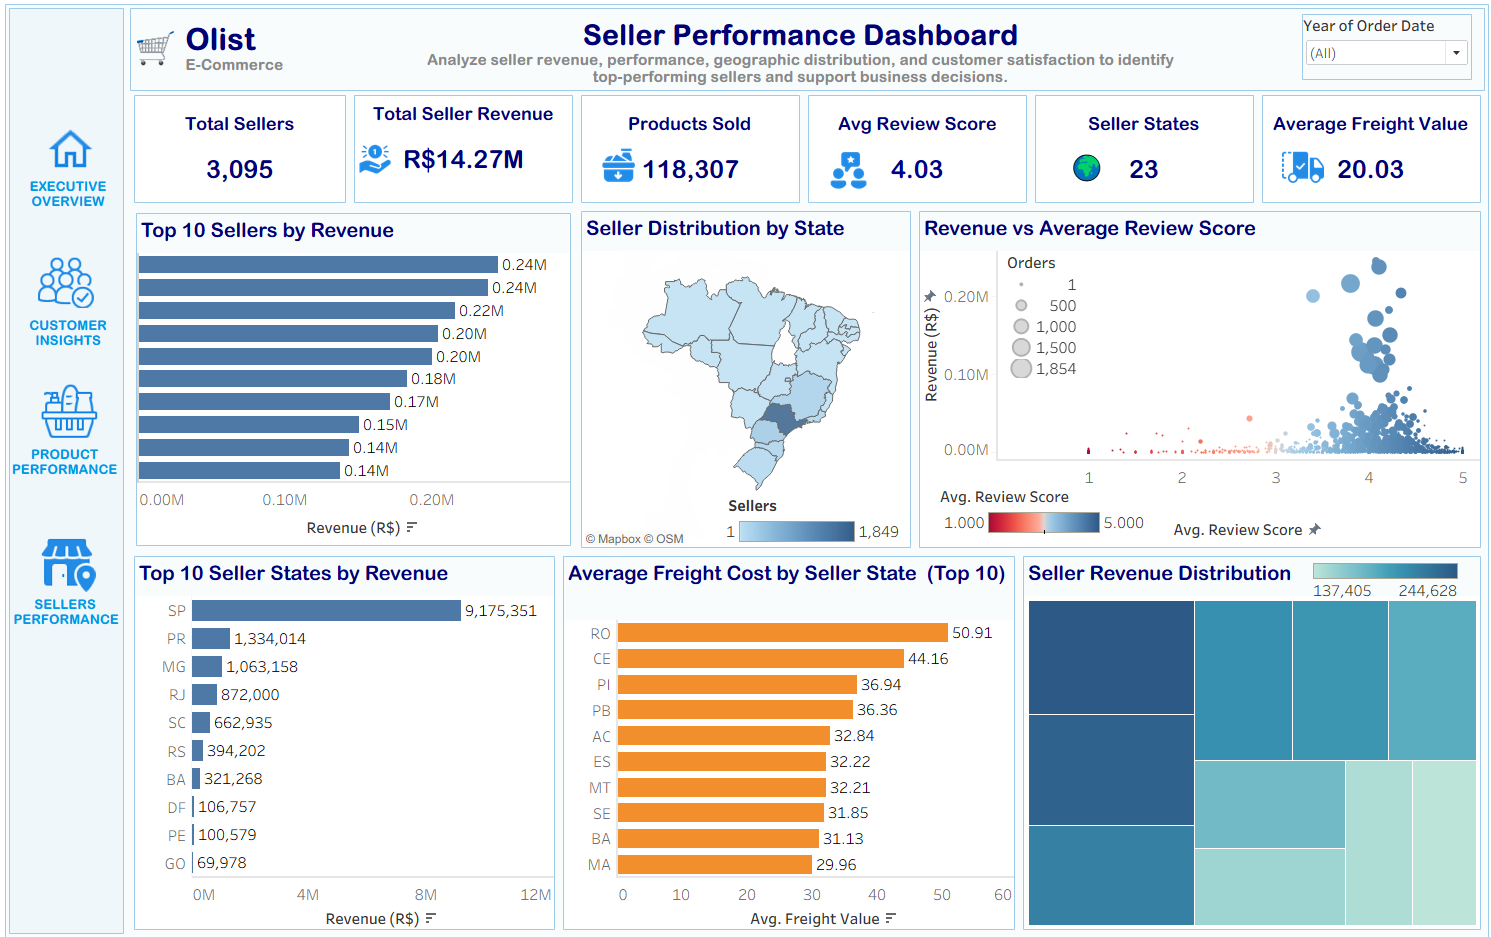

The dashboard page shown, as its layout file describes it:
{"tool":"tableau","page":{"name":"Sellers Performance Dasboard","canvas":[1500,950],"ordinal":3},"visuals":[{"type":"text","box":[185,11.2,104,81.6]},{"type":"text","box":[393,14.5,821,83.8]},{"type":"filter","title":"Average Freight Value","param":"[federated.0apkwfv0ew5umk1dl02bz1w8lk93].[yr:Order_Date:ok]","box":[1305,18,170,66]},{"type":"image","param":"Image/icons8-shopping-cart-48.png","box":[140,30.6,37,42.2]},{"type":"worksheet","title":"Total Sellers","mark":"Automatic","box":[133,95,220,116]},{"type":"worksheet","title":"Total Seller Revenue","mark":"Automatic","box":[353,95,227,116]},{"type":"worksheet","title":"Products Sold","mark":"Automatic","box":[580,95,227,116]},{"type":"worksheet","title":"Average Review Score","mark":"Automatic","box":[807,95,227,116]},{"type":"worksheet","title":"Seller States","mark":"Automatic","box":[1034,95,227,116]},{"type":"worksheet","title":"Average Freight Value","mark":"Automatic","box":[1261,95,227,116]},{"type":"dashboard-object","box":[46,129.8,56,47.5]},{"type":"image","param":"Image/icons8-get-revenue-50.png","box":[355,146,46,34]},{"type":"image","param":"Image/icons8-partially-shipped-50.png","box":[1275,149,62,42]},{"type":"image","param":"Image/icons8-food-donor-48.png","box":[594,151,55,37]},{"type":"image","param":"Image/icons8-customers-48 1.png","box":[153,155,36,33]},{"type":"text","box":[1069,156,43,36]},{"type":"image","param":"Image/icons8-request-feedback-48.png","box":[824,156.2,56,39.1]},{"type":"text","box":[21,181.6,100,33.8]},{"type":"worksheet","title":"Top 10 Sellers by Revenue","mark":"Automatic","rows":["seller_id (Dim_Sellers.csv)"],"cols":["price"],"box":[133,211,447,345]},{"type":"worksheet","title":"Seller Distribution by State","mark":"Multipolygon","box":[580,211,338,345]},{"type":"worksheet","title":"Revenue vs Average Review Score","mark":"Automatic","rows":["price"],"cols":["review_score"],"box":[918,211,570,345]},{"type":"legend","title":"Revenue vs Average Review Score","param":"[federated.0apkwfv0ew5umk1dl02bz1w8lk93].[ctd:order_id:qk]","box":[1010,256,130,127]},{"type":"dashboard-object","box":[28,256.5,83,55.9]},{"type":"text","box":[21,320.9,100,33.8]},{"type":"text","box":[11,449.7,113,33.8]},{"type":"legend","title":"Revenue vs Average Review Score","param":"[federated.0apkwfv0ew5umk1dl02bz1w8lk93].[avg:review_score:qk]","box":[943,490,209,63]},{"type":"legend","title":"Seller Distribution by State","param":"[federated.0apkwfv0ew5umk1dl02bz1w8lk93].[ctd:seller_id (Dim_Sellers.csv):qk]","box":[725,499,182,80]},{"type":"image","param":"Image/icons8-shop-location-48 (2).png","box":[28,538,85,58]},{"type":"worksheet","title":"Top 10 Seller States by Revenue","mark":"Automatic","rows":["seller_state"],"cols":["price"],"box":[133,556,429,382]},{"type":"worksheet","title":"Average Freight Cost by Seller State","mark":"Automatic","rows":["seller_state"],"cols":["freight_value"],"box":[562,556,460,382]},{"type":"worksheet","title":"Seller Revenue Distribution","mark":"Automatic","box":[1022,556,466,382]},{"type":"legend","title":"Seller Revenue Distribution","param":"[federated.0apkwfv0ew5umk1dl02bz1w8lk93].[sum:price:qk]","box":[1240,563,225,44]},{"type":"text","box":[13,599.6,110,33.8]}]}

Visuals, with their boxes in screenshot pixels (x1, y1, x2, y2), scaled from the page's 1500x950 canvas onto the 1491x937 screenshot:
text: region(184, 11, 287, 92)
text: region(391, 14, 1207, 97)
"Average Freight Value" filter: region(1297, 18, 1466, 83)
image: region(139, 30, 176, 72)
"Total Sellers" worksheet: region(132, 94, 351, 208)
"Total Seller Revenue" worksheet: region(351, 94, 577, 208)
"Products Sold" worksheet: region(577, 94, 802, 208)
"Average Review Score" worksheet: region(802, 94, 1028, 208)
"Seller States" worksheet: region(1028, 94, 1253, 208)
"Average Freight Value" worksheet: region(1253, 94, 1479, 208)
dashboard-object: region(46, 128, 101, 175)
image: region(353, 144, 399, 178)
image: region(1267, 147, 1329, 188)
image: region(590, 149, 645, 185)
image: region(152, 153, 188, 185)
text: region(1063, 154, 1105, 189)
image: region(819, 154, 875, 193)
text: region(21, 179, 120, 212)
"Top 10 Sellers by Revenue" worksheet: region(132, 208, 577, 548)
"Seller Distribution by State" worksheet (Multipolygon marks): region(577, 208, 912, 548)
"Revenue vs Average Review Score" worksheet: region(912, 208, 1479, 548)
"Revenue vs Average Review Score" legend: region(1004, 252, 1133, 378)
dashboard-object: region(28, 253, 110, 308)
text: region(21, 317, 120, 350)
text: region(11, 444, 123, 477)
"Revenue vs Average Review Score" legend: region(937, 483, 1145, 545)
"Seller Distribution by State" legend: region(721, 492, 902, 571)
image: region(28, 531, 112, 588)
"Top 10 Seller States by Revenue" worksheet: region(132, 548, 559, 925)
"Average Freight Cost by Seller State" worksheet: region(559, 548, 1016, 925)
"Seller Revenue Distribution" worksheet: region(1016, 548, 1479, 925)
"Seller Revenue Distribution" legend: region(1233, 555, 1456, 599)
text: region(13, 591, 122, 625)
